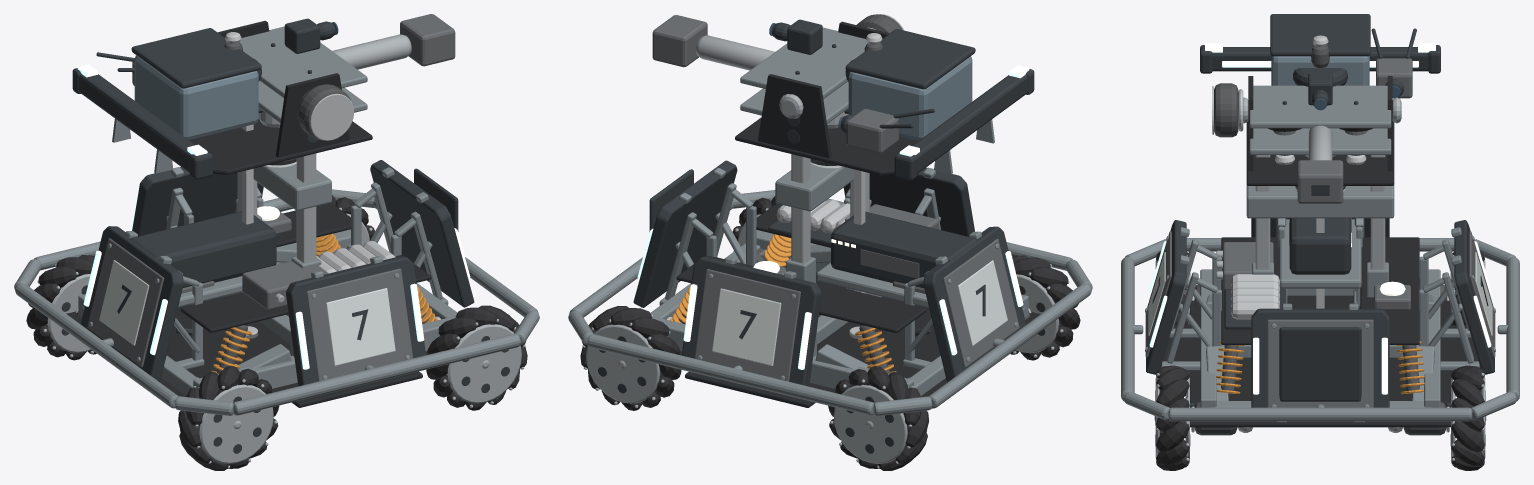
The model's file is robot-301-spec2026v3.glb.
The picture shows the model from 3 angles, left to right: view 1: azimuth 30°, elevation 25°; view 2: azimuth 150°, elevation 25°; view 3: azimuth 270°, elevation 25°; orthographic projection. The views are drawn at different scales.
Parts seen in each view (by area): view 1: Chassis_RobotMatteAluminum, Chassis_CarbonPlate, Chassis_RobotMatteGraphite, Turret_CarbonPlate, MagazineBox, ArmorModuleBody, GunPitch_RobotMatteAluminum, ArmorHitFace.003, MagazineLid, Turret_RobotMatteGraphite, ArmorModuleBody.001, ArmorModuleBody.003 (+28 smaller); view 2: Chassis_RobotMatteAluminum, Chassis_CarbonPlate, Chassis_RobotMatteGraphite, Turret_CarbonPlate, ArmorModuleBody, MagazineBox, GunPitch_RobotMatteAluminum, Turret_RobotMatteGraphite, ArmorHitFace.001, MagazineLid, ArmorModuleBody.001, ArmorModuleBody.003 (+28 smaller); view 3: Chassis_RobotMatteAluminum, Chassis_CarbonPlate, Chassis_RobotMatteGraphite, GunPitch_RobotMatteAluminum, MagazineLid, LiftCarriage, ArmorModuleBody, Turret_CarbonPlate, ArmorHitFace, ArmorMount_1_RobotMatteAluminum, ArmorMount_3_RobotMatteAluminum, Turret_RobotMatteGraphite (+30 smaller).
Part boxes in pixels (x1,y1,x2,y2): Chassis_RobotMatteAluminum: (14,189,539,415); Chassis_CarbonPlate: (66,203,431,407); Chassis_RobotMatteGraphite: (129,168,458,316); Turret_CarbonPlate: (189,20,372,174); MagazineBox: (134,55,258,139); ArmorModuleBody: (370,160,474,307); GunPitch_RobotMatteAluminum: (240,26,367,122); ArmorHitFace.003: (306,268,412,381); MagazineLid: (131,28,261,88); Turret_RobotMatteGraphite: (72,52,318,179); ArmorModuleBody.001: (132,167,263,236); ArmorModuleBody.003: (286,256,425,386); Chassis_RobotMatteAluminum: (568,190,1092,416); Chassis_CarbonPlate: (676,203,1040,407); Chassis_RobotMatteGraphite: (649,169,977,316); Turret_CarbonPlate: (735,21,917,175); ArmorModuleBody: (633,160,737,307); MagazineBox: (848,56,972,140); GunPitch_RobotMatteAluminum: (740,27,867,123); Turret_RobotMatteGraphite: (787,69,1034,180); ArmorHitFace.001: (694,269,800,381); MagazineLid: (845,29,975,89); ArmorModuleBody.001: (681,256,821,386); ArmorModuleBody.003: (843,167,974,236); Chassis_RobotMatteAluminum: (1121,219,1519,421); Chassis_CarbonPlate: (1160,237,1480,427); Chassis_RobotMatteGraphite: (1190,218,1450,406); GunPitch_RobotMatteAluminum: (1249,85,1391,154); MagazineLid: (1270,14,1370,56); LiftCarriage: (1246,185,1394,218); ArmorModuleBody: (1251,308,1389,407); Turret_CarbonPlate: (1246,76,1394,185); ArmorHitFace: (1267,319,1373,407); ArmorMount_1_RobotMatteAluminum: (1419,239,1479,370); ArmorMount_3_RobotMatteAluminum: (1161,239,1221,370); Turret_RobotMatteGraphite: (1200,28,1440,148).
Size of the model in its own units: 0.5065 by 0.4706 by 0.4865.
